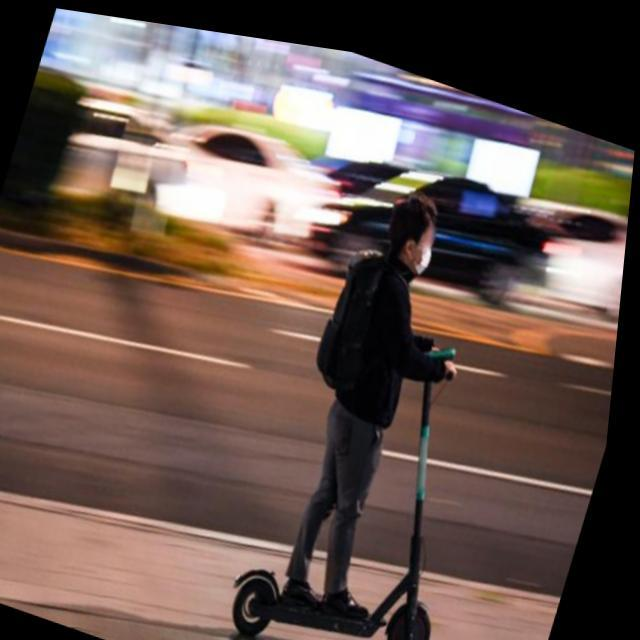Nonhelmet: (372, 182, 437, 284)
